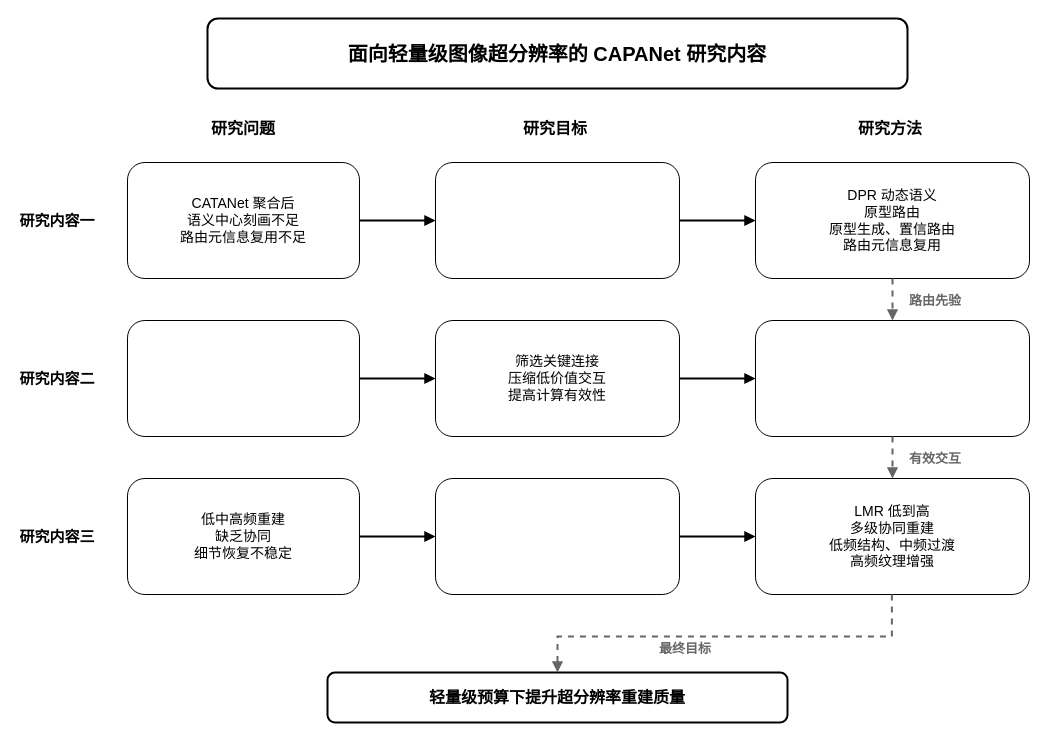
This 1047x740 diagram has some shape labels left out. The centre of each missing label's shape, as x and y in pixels:
"PFSA 渐进聚焦 稀疏注意力 先验继承、焦点率 TopK 稀疏交互" belongs at pixel 892 378.
"低频到高频 递进恢复 兼顾结构与纹理" belongs at pixel 557 536.
"注意力冗余 无效连接较多 计算分配不均" belongs at pixel 243 378.
"生成动态语义原型 刻画 token 归属 支撑后续协同重建" belongs at pixel 557 220.
